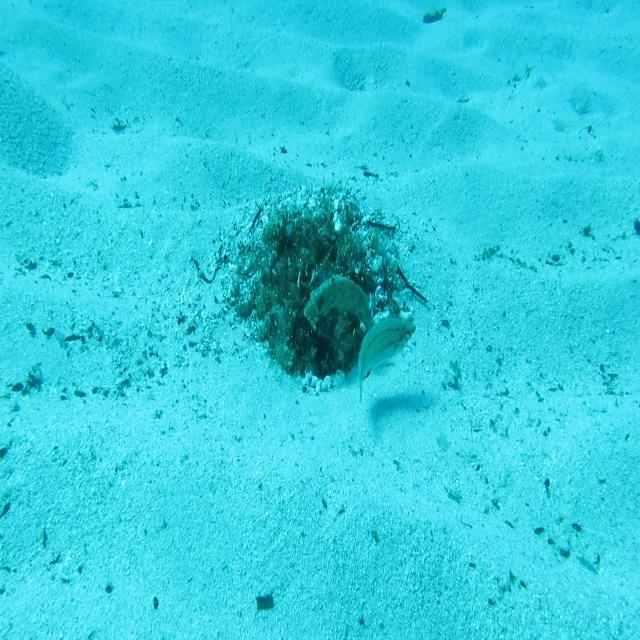BK_SW: (303, 268, 377, 340)
core_nest: (287, 225, 335, 261)
female: (354, 314, 418, 406)
nest: (222, 180, 420, 410)
vegetation: (419, 4, 448, 25)
